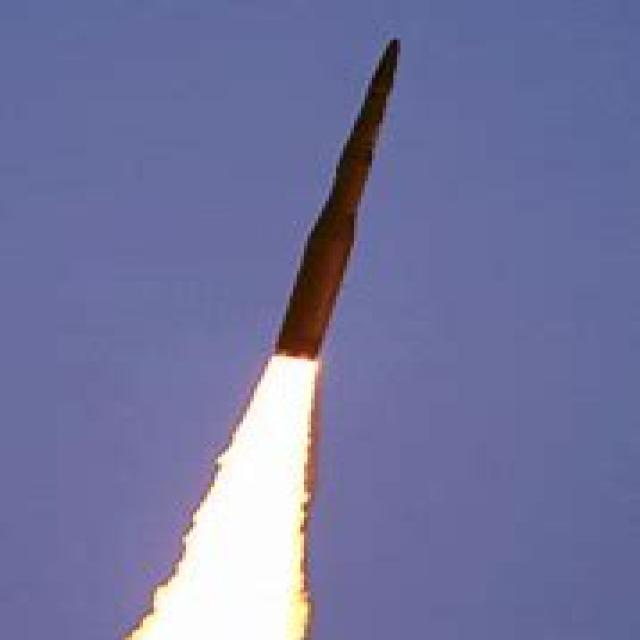missile: (272, 38, 402, 365)
